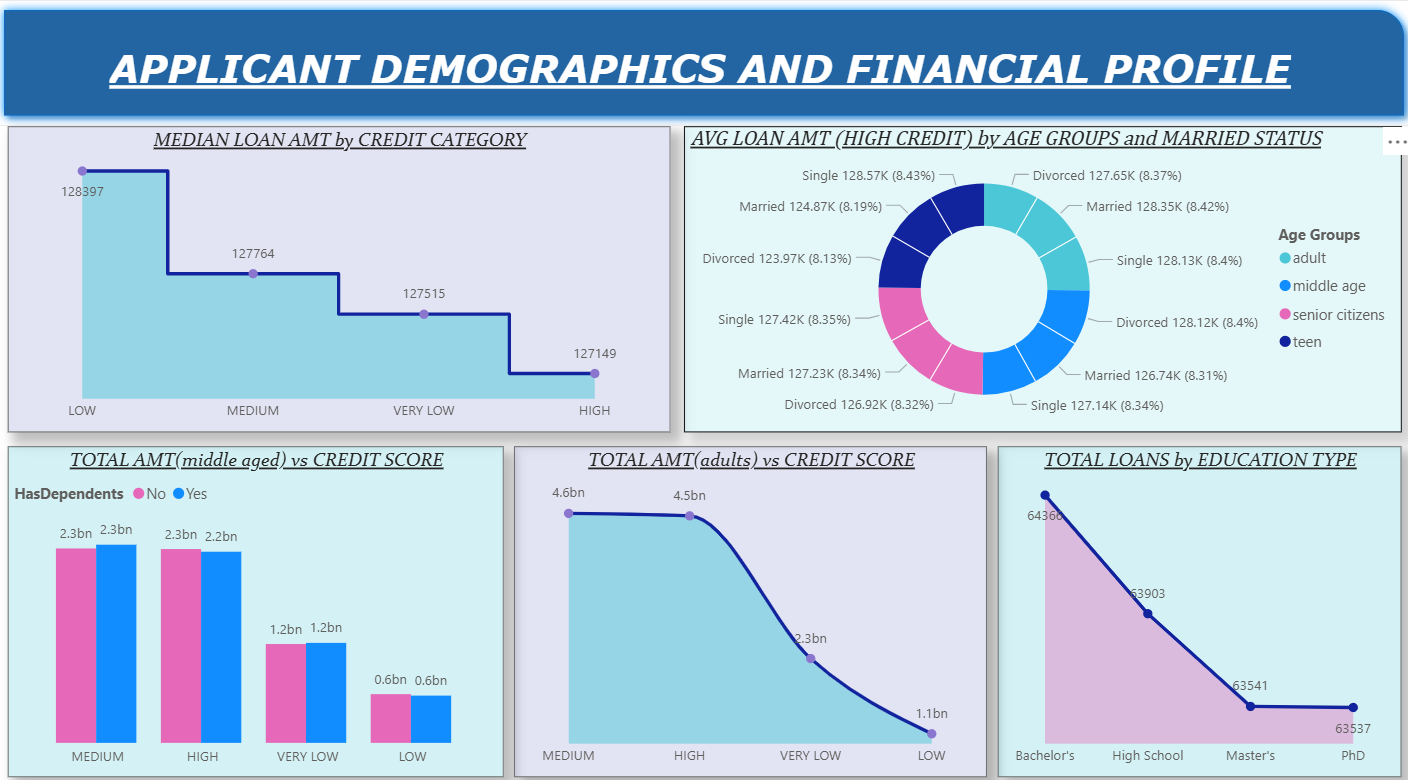

This screenshot's page, from the dashboard's own definition file:
{"tool":"powerbi","page":{"name":"APPLICANT DEMOGRAPHICS AND FINANCIAL PROFILE","canvas":[1280,720],"ordinal":1},"visuals":[{"type":"lineChart","title":"MEDIAN LOAN AMT by CREDIT CATEGORY","fields":{"Category":["Loan_default.CREDIT BINS"],"Y":["MEASURE.MEDIAN LOAN AMT"]},"box":[12.4,122.9,597.4,276.1],"z":0},{"type":"donutChart","title":"AVG LOAN AMT (HIGH CREDIT) by AGE GROUPS and MARRIED STATUS","fields":{"Y":["MEASURE.AVG loan amounthigh credit"],"Category":["Loan_default.Age Groups"],"Series":["Loan_default.MaritalStatus"]},"box":[622.2,122.9,647,276.1],"z":1000},{"type":"shape","box":[0,9.5,1280.3,113.2],"z":2000},{"type":"clusteredColumnChart","title":"TOTAL AMT(middle aged) vs CREDIT SCORE","fields":{"Y":["MEASURE.adults total loan"],"Category":["Loan_default.CREDIT BINS"],"Series":["Loan_default.HasDependents"]},"box":[12.3,411.8,447.2,298.6],"z":3000},{"type":"lineChart","title":"TOTAL AMT(adults) vs CREDIT SCORE","fields":{"Y":["MEASURE.total amount older men"],"Category":["Loan_default.CREDIT BINS"]},"box":[469,411.8,426.8,298.6],"z":4000},{"type":"lineChart","title":"TOTAL LOANS by EDUCATION TYPE","fields":{"Category":["Loan_default.Education"],"Y":["CountNonNull(Loan_default.LoanID)"]},"box":[905.3,411.8,364,298.6],"z":5000}]}

Visuals, with their boxes in screenshot pixels (x1, y1, x2, y2), scaled from the page's 1280x720 canvas onto the 1408x780 screenshot:
"MEDIAN LOAN AMT by CREDIT CATEGORY" lineChart: l=14, t=133, r=671, b=432
"AVG LOAN AMT (HIGH CREDIT) by AGE GROUPS and MARRIED STATUS" donutChart: l=684, t=133, r=1396, b=432
shape: l=0, t=10, r=1407, b=133
"TOTAL AMT(middle aged) vs CREDIT SCORE" clusteredColumnChart: l=14, t=446, r=505, b=770
"TOTAL AMT(adults) vs CREDIT SCORE" lineChart: l=516, t=446, r=985, b=770
"TOTAL LOANS by EDUCATION TYPE" lineChart: l=996, t=446, r=1396, b=770
